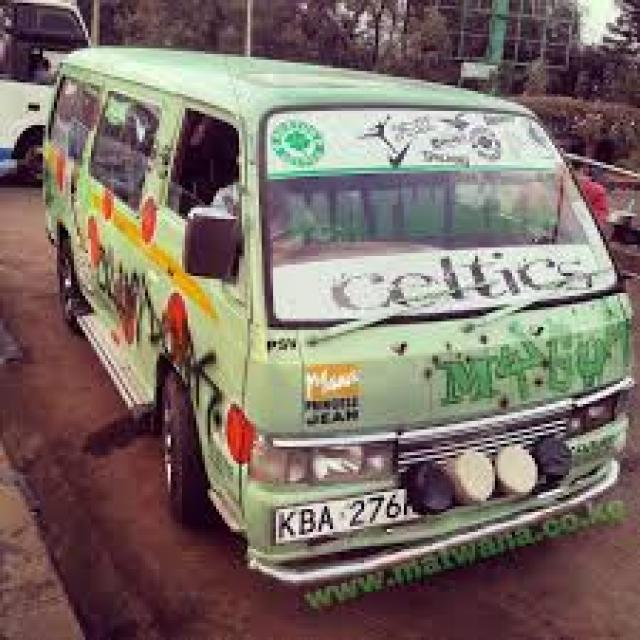matatu: (30, 7, 640, 624)
